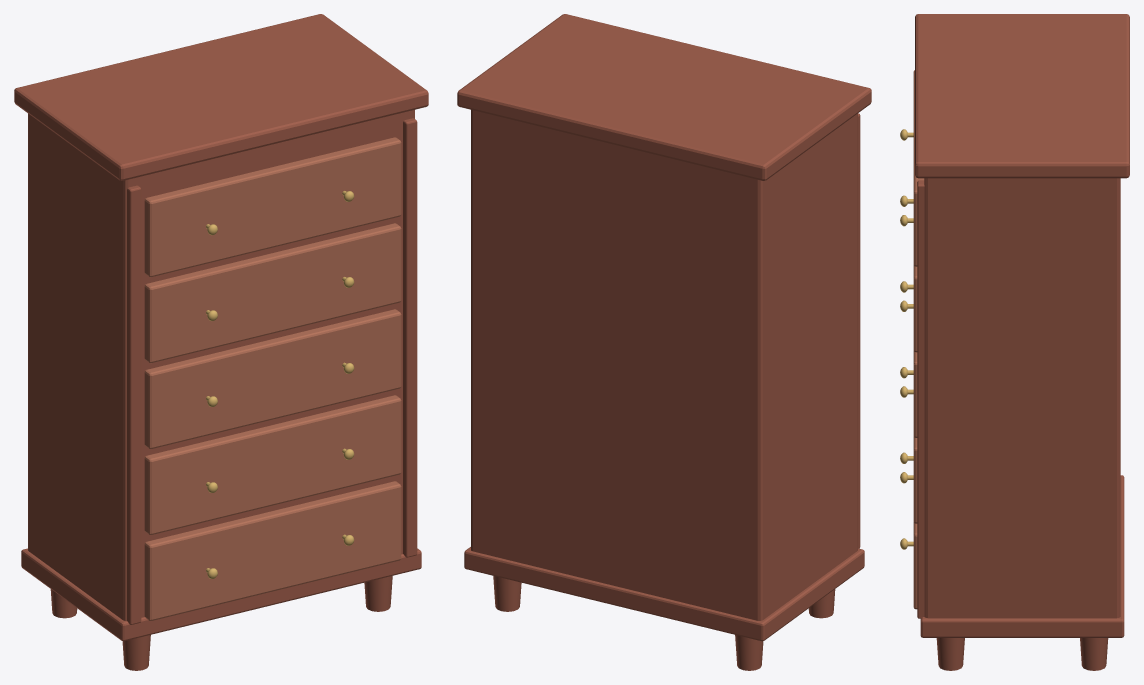
File: dresser_tall_chest.glb
3 views of the same model, side by side, from view 1: azimuth 30°, elevation 25°; view 2: azimuth 150°, elevation 25°; view 3: azimuth 270°, elevation 25° (orthographic).
Parts seen in each view (by area): view 1: Tall five-drawer chest closed cabinet, Tall five-drawer chest overhanging top, Tall chest drawer 1 closed drawer face, Tall chest drawer 2 closed drawer face, Tall chest drawer 4 closed drawer face, Tall chest drawer 5 closed drawer face, Tall chest drawer 3 closed drawer face, Tall five-drawer chest base molding, Tall chest corner pilaster, Tall chest corner pilaster.001, Tall five-drawer chest grounded turned foot.002, Tall five-drawer chest grounded turned foot; view 2: Tall five-drawer chest closed cabinet, Tall five-drawer chest overhanging top, Tall five-drawer chest base molding, Tall chest corner pilaster, Tall five-drawer chest grounded turned foot.003, Tall five-drawer chest grounded turned foot.001; view 3: Tall five-drawer chest closed cabinet, Tall five-drawer chest overhanging top, Tall five-drawer chest base molding, Tall chest corner pilaster.001, Tall five-drawer chest grounded turned foot.003, Tall five-drawer chest grounded turned foot.002, Tall chest drawer 5 closed drawer face, Tall chest drawer 1 closed drawer face, Tall chest drawer 2 closed drawer face, Tall chest drawer 3 closed drawer face, Tall chest drawer 4 closed drawer face.
Boxes of the visible parts, left/top/right/bottom form: Tall five-drawer chest closed cabinet: left=28, top=110, right=414, bottom=620; Tall five-drawer chest overhanging top: left=14, top=14, right=428, bottom=180; Tall chest drawer 1 closed drawer face: left=144, top=481, right=401, bottom=620; Tall chest drawer 2 closed drawer face: left=144, top=395, right=401, bottom=534; Tall chest drawer 4 closed drawer face: left=144, top=223, right=401, bottom=363; Tall chest drawer 5 closed drawer face: left=144, top=137, right=401, bottom=277; Tall chest drawer 3 closed drawer face: left=144, top=309, right=401, bottom=448; Tall five-drawer chest base molding: left=21, top=548, right=421, bottom=641; Tall chest corner pilaster: left=127, top=185, right=141, bottom=624; Tall chest corner pilaster.001: left=403, top=118, right=417, bottom=557; Tall five-drawer chest grounded turned foot.002: left=364, top=576, right=392, bottom=611; Tall five-drawer chest grounded turned foot: left=122, top=635, right=150, bottom=670; Tall five-drawer chest closed cabinet: left=471, top=110, right=857, bottom=620; Tall five-drawer chest overhanging top: left=457, top=14, right=871, bottom=180; Tall five-drawer chest base molding: left=464, top=547, right=864, bottom=641; Tall chest corner pilaster: left=858, top=113, right=860, bottom=548; Tall five-drawer chest grounded turned foot.003: left=493, top=576, right=521, bottom=611; Tall five-drawer chest grounded turned foot.001: left=735, top=635, right=763, bottom=670; Tall five-drawer chest closed cabinet: left=924, top=178, right=1120, bottom=618; Tall five-drawer chest overhanging top: left=915, top=14, right=1129, bottom=178; Tall five-drawer chest base molding: left=920, top=475, right=1124, bottom=637; Tall chest corner pilaster.001: left=917, top=180, right=924, bottom=618; Tall five-drawer chest grounded turned foot.003: left=1080, top=638, right=1108, bottom=670; Tall five-drawer chest grounded turned foot.002: left=936, top=638, right=964, bottom=670; Tall chest drawer 5 closed drawer face: left=913, top=70, right=924, bottom=266; Tall chest drawer 1 closed drawer face: left=913, top=522, right=917, bottom=609; Tall chest drawer 2 closed drawer face: left=913, top=436, right=917, bottom=523; Tall chest drawer 3 closed drawer face: left=913, top=351, right=917, bottom=437; Tall chest drawer 4 closed drawer face: left=913, top=265, right=917, bottom=352.
Size of the model in its own units: 0.87 by 1.4 by 0.5615.
